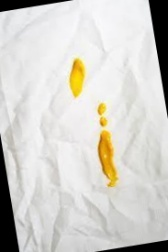mustard: (90, 127, 126, 193), (64, 60, 87, 102), (95, 102, 108, 118), (98, 119, 107, 128)
